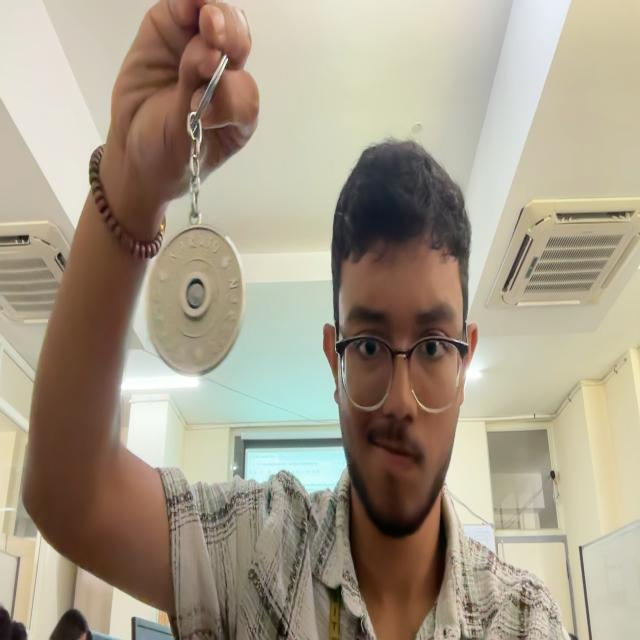dangerous: (145, 55, 245, 375)
